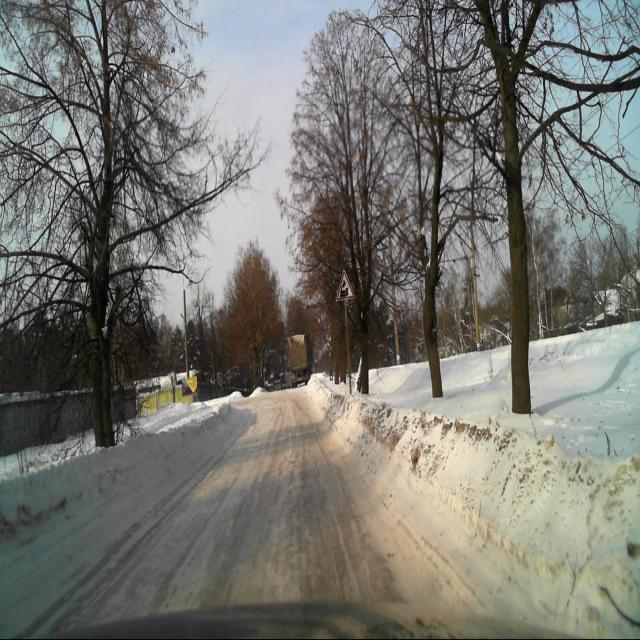road sign: (336, 268, 354, 300)
